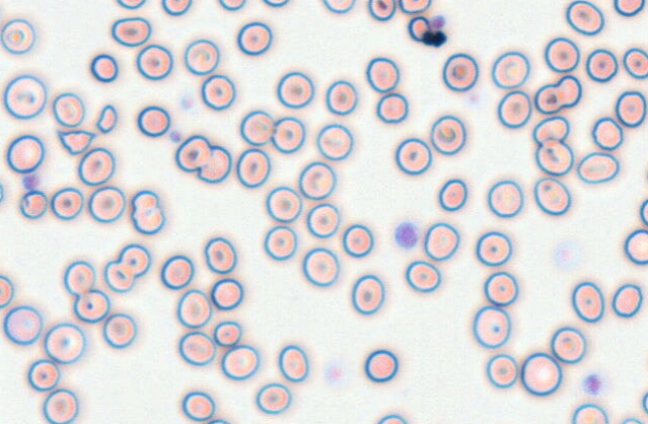PLT: (394, 222, 420, 251), (580, 371, 609, 396), (22, 171, 44, 192), (431, 13, 448, 28)
RBC: (3, 74, 46, 119), (520, 352, 562, 396), (43, 322, 86, 364), (472, 305, 511, 348), (3, 304, 43, 345), (491, 50, 530, 89), (534, 138, 574, 176), (301, 246, 339, 286), (77, 146, 115, 186), (298, 160, 336, 200), (6, 134, 44, 173), (533, 176, 571, 215), (430, 114, 466, 155), (87, 185, 125, 223), (394, 137, 432, 175), (441, 52, 478, 91), (423, 221, 459, 261), (235, 147, 270, 188), (174, 134, 211, 172), (316, 122, 353, 160), (135, 43, 173, 80), (276, 71, 314, 108), (176, 288, 211, 328), (571, 281, 605, 322), (351, 273, 384, 315), (576, 151, 619, 183), (265, 185, 302, 222), (496, 90, 532, 128), (221, 344, 259, 380), (550, 326, 586, 364), (487, 179, 523, 217), (196, 144, 231, 183), (565, 0, 604, 35), (544, 36, 580, 73), (183, 38, 219, 75), (475, 230, 512, 266), (72, 288, 110, 323), (178, 331, 216, 366), (270, 116, 305, 153), (203, 236, 237, 274), (110, 16, 151, 47), (42, 388, 78, 423), (102, 312, 137, 348), (0, 18, 35, 54), (239, 109, 274, 145), (305, 202, 340, 238), (483, 270, 518, 306), (200, 74, 235, 110), (116, 243, 151, 278), (51, 91, 85, 127), (365, 56, 399, 92), (236, 21, 272, 55), (404, 259, 441, 292), (277, 344, 309, 382), (160, 254, 194, 289), (363, 348, 398, 382), (263, 225, 297, 260), (614, 90, 646, 127), (485, 353, 518, 388), (63, 260, 95, 296), (255, 382, 291, 414), (611, 282, 643, 318), (325, 79, 357, 115), (50, 186, 83, 220), (585, 48, 618, 82), (532, 115, 569, 145), (27, 358, 60, 391), (210, 277, 243, 310), (591, 116, 623, 150), (341, 223, 373, 257), (136, 105, 170, 137), (181, 390, 215, 421), (103, 259, 134, 292), (375, 92, 408, 123), (438, 178, 467, 211), (555, 74, 582, 107), (534, 83, 562, 114), (624, 228, 647, 265), (90, 53, 118, 82), (622, 47, 647, 79), (213, 320, 241, 347), (571, 403, 608, 423), (367, 0, 396, 21), (613, 0, 645, 16), (0, 274, 14, 308), (161, 0, 192, 15), (398, 0, 431, 14), (322, 0, 355, 13), (374, 412, 408, 423), (218, 0, 245, 11), (115, 0, 146, 9), (639, 197, 648, 226), (262, 0, 289, 7), (619, 417, 644, 423), (641, 390, 647, 415), (205, 418, 231, 423), (643, 161, 648, 185), (0, 181, 5, 203)
Schistocyte: (57, 128, 96, 157), (134, 208, 165, 234), (18, 193, 48, 219), (129, 191, 159, 216), (96, 105, 117, 133), (410, 16, 430, 42)
